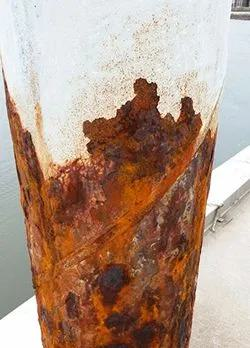Corrosion: (1, 65, 220, 348)
